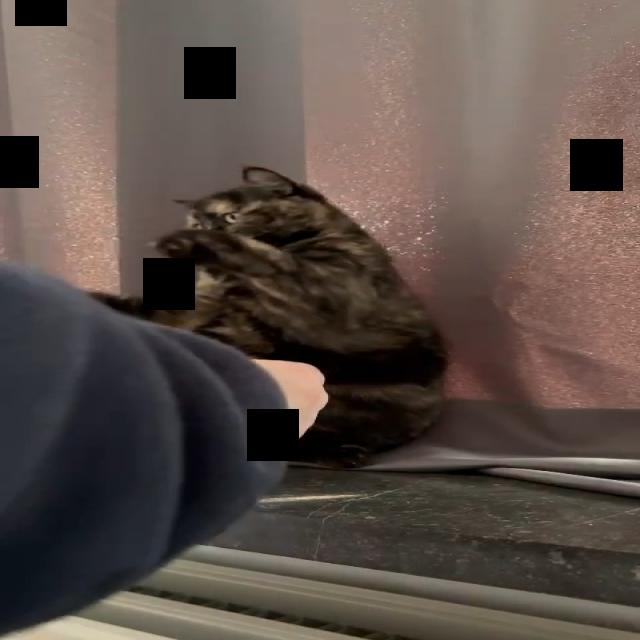authorized: (87, 164, 449, 468)
